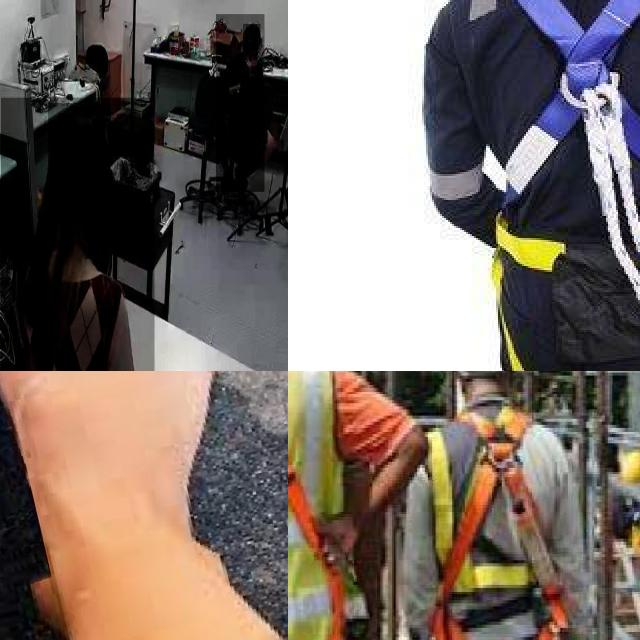Barefoots: (0, 371, 219, 616)
Harness: (490, 0, 640, 371), (435, 411, 565, 640), (288, 371, 340, 640)
face_nomask: (246, 41, 258, 61)
hand_noglove: (248, 51, 258, 73)
head_nohelmet: (48, 103, 112, 167), (243, 24, 261, 39)
person: (1, 97, 155, 371), (216, 14, 265, 193)
